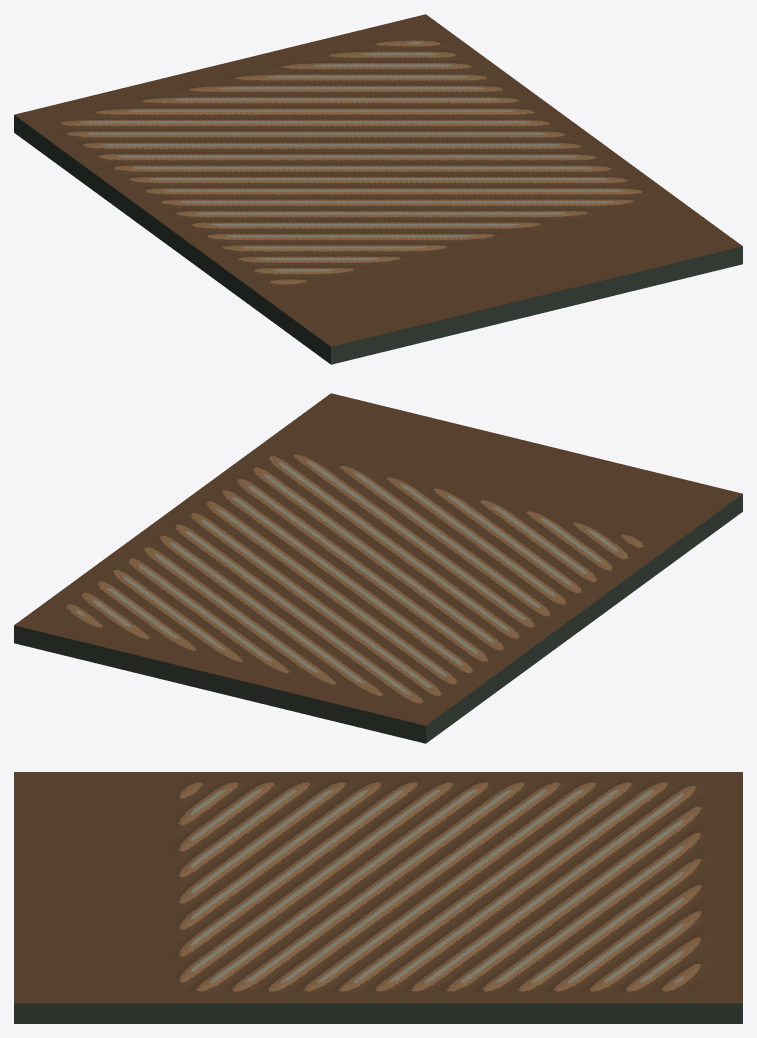
Rendered from caster_stress_washboard_l1.dae.
3 renders of one model, top to bottom at view 1: azimuth 30°, elevation 25°; view 2: azimuth 150°, elevation 25°; view 3: azimuth 270°, elevation 25°, orthographic. The views are drawn at different scales.
Visible parts, largest first — view 1: terrain_node; view 2: terrain_node; view 3: terrain_node.
Part boxes in pixels (x1,y1,x2,y2): terrain_node: [14, 14, 742, 364]; terrain_node: [14, 393, 742, 743]; terrain_node: [14, 772, 742, 1023].
Size of the model in its own units: 6 by 8 by 0.27.
